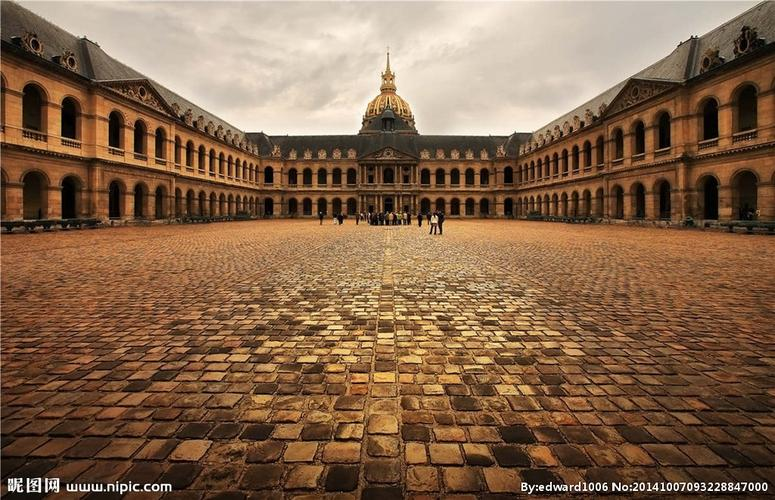buildings: (0, 43, 775, 236), (370, 36, 760, 235)
mountain: (395, 202, 758, 430)
